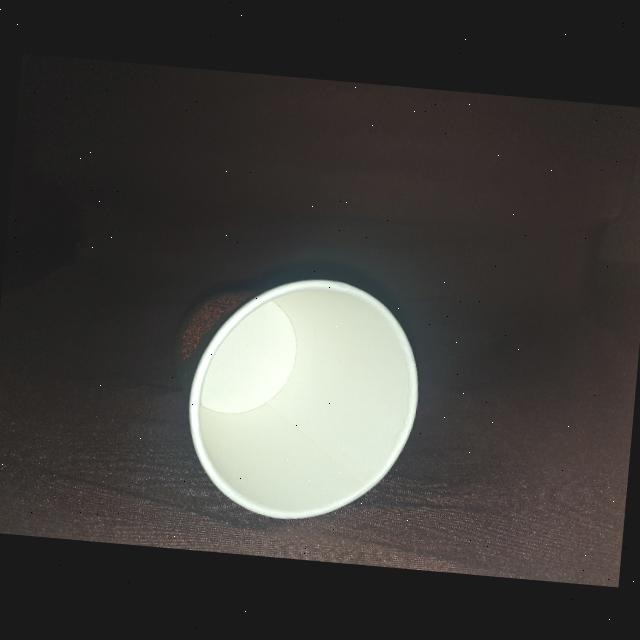trash: (156, 256, 436, 532)
